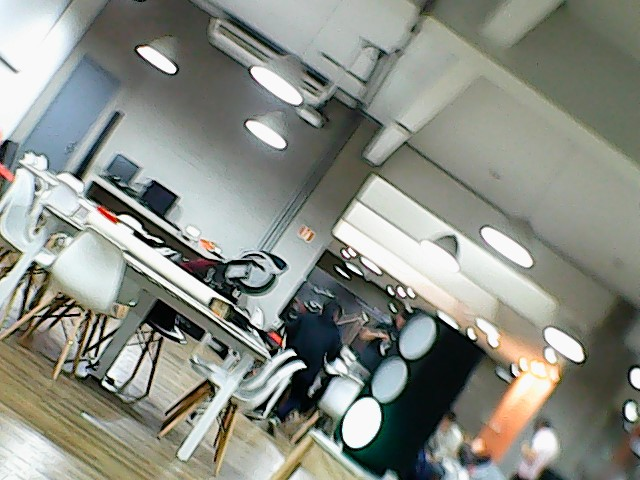verde: (332, 312, 487, 471)
